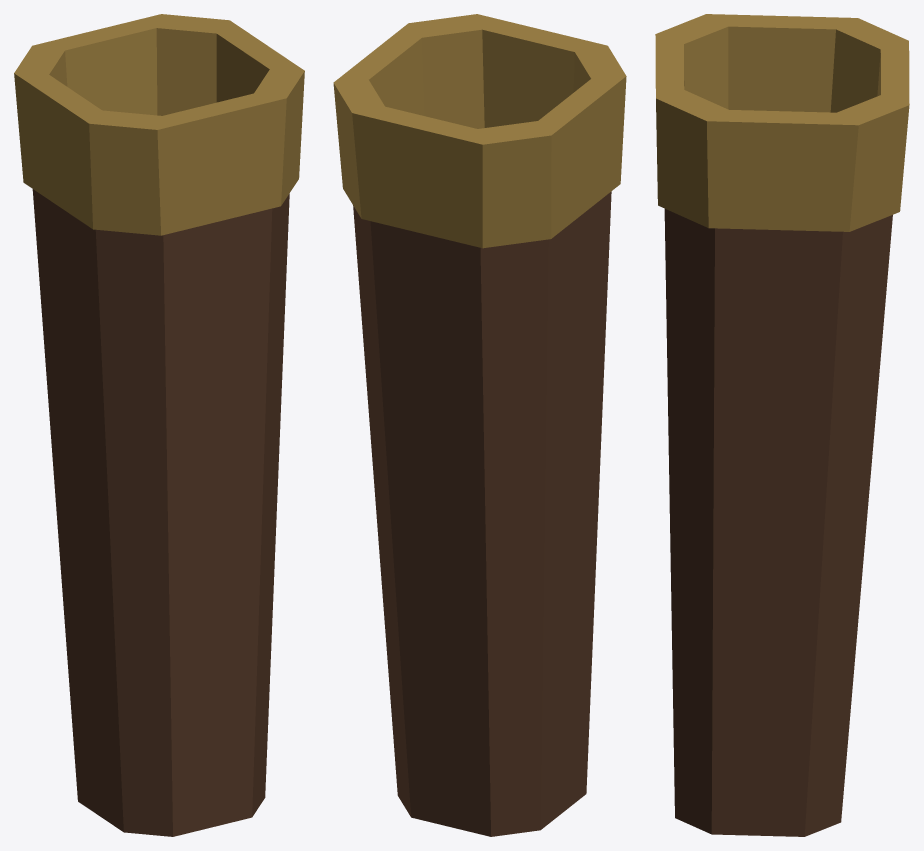
File: Quiver_Yellow.glb
3 renders of one model, left to right at view 1: azimuth 30°, elevation 25°; view 2: azimuth 150°, elevation 25°; view 3: azimuth 270°, elevation 25°, orthographic.
Visible parts, largest first — view 1: Quiver_Yellow; view 2: Quiver_Yellow; view 3: Quiver_Yellow.
Part boxes in pixels (<box>): Quiver_Yellow: <box>14,14,304,836</box>; Quiver_Yellow: <box>333,14,626,836</box>; Quiver_Yellow: <box>655,14,909,836</box>.
Size of the model in its own units: 0.1264 by 0.4043 by 0.1263.
1 material, 1 textured.
